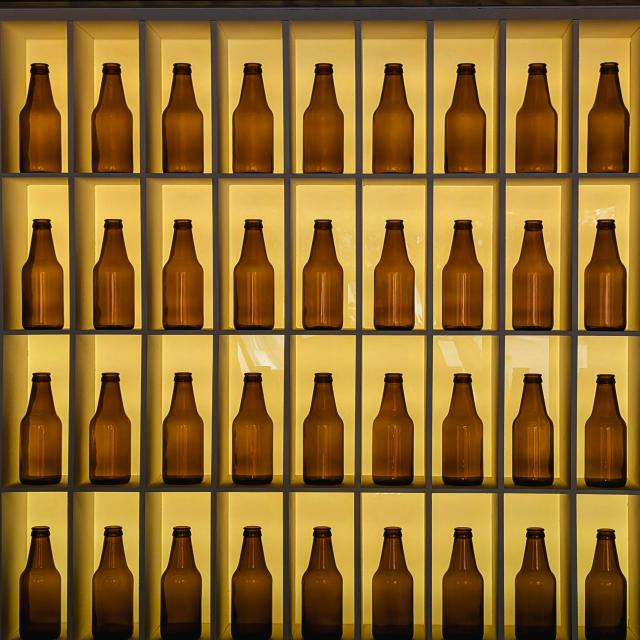Bottle: (19, 526, 61, 639), (372, 373, 414, 486), (160, 526, 202, 639), (19, 63, 62, 173), (20, 373, 62, 485), (89, 373, 131, 484), (231, 526, 272, 639), (92, 526, 133, 639), (373, 220, 415, 330), (584, 220, 626, 330), (232, 373, 273, 485), (303, 373, 344, 485), (585, 375, 626, 487), (372, 527, 413, 639), (513, 374, 554, 486), (587, 63, 629, 172), (442, 374, 483, 485), (163, 373, 204, 484), (233, 219, 274, 330), (515, 528, 556, 639), (442, 528, 483, 639), (22, 219, 63, 329), (585, 529, 626, 639), (93, 219, 134, 329), (442, 220, 483, 330), (302, 527, 342, 639), (303, 64, 344, 173), (516, 63, 557, 172), (162, 63, 203, 172), (92, 63, 133, 172), (512, 221, 553, 330), (373, 64, 414, 173), (445, 64, 486, 173), (233, 63, 273, 172), (303, 220, 343, 329), (163, 220, 203, 329)
